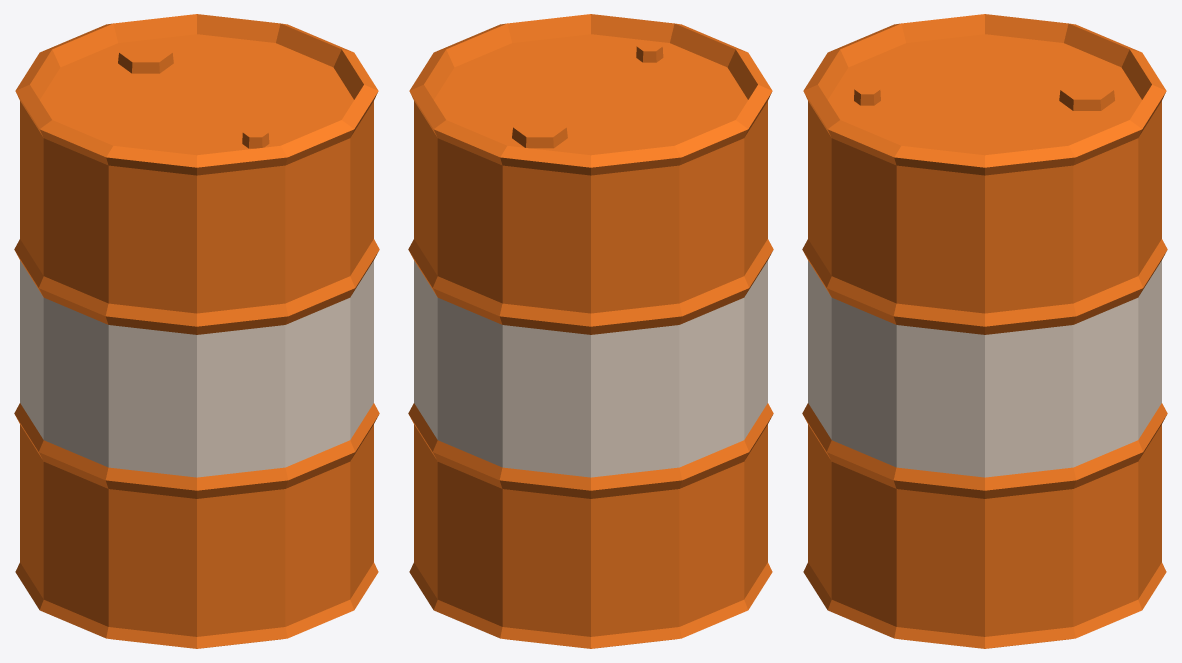
File: apocalypse_barrel.fbx
3 views of the same model, side by side, from view 1: azimuth 30°, elevation 25°; view 2: azimuth 150°, elevation 25°; view 3: azimuth 270°, elevation 25° (orthographic).
Parts seen in each view (by area): view 1: apocalypse_barrel; view 2: apocalypse_barrel; view 3: apocalypse_barrel.
Part boxes in pixels (x1,y1,x2,y2): apocalypse_barrel: (14,14,379,648); apocalypse_barrel: (408,14,773,648); apocalypse_barrel: (802,14,1167,648).
Bounding box in the file's own units: 134 × 200 × 134.
